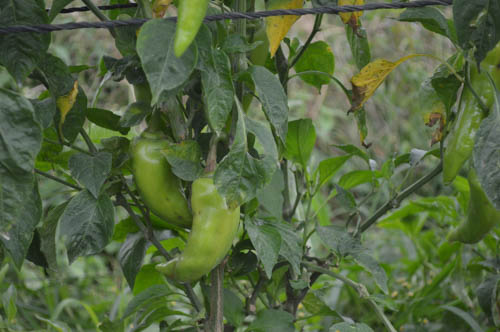ChiliPepper: (176, 177, 241, 289), (439, 64, 493, 188), (129, 137, 191, 223), (452, 171, 494, 253)
